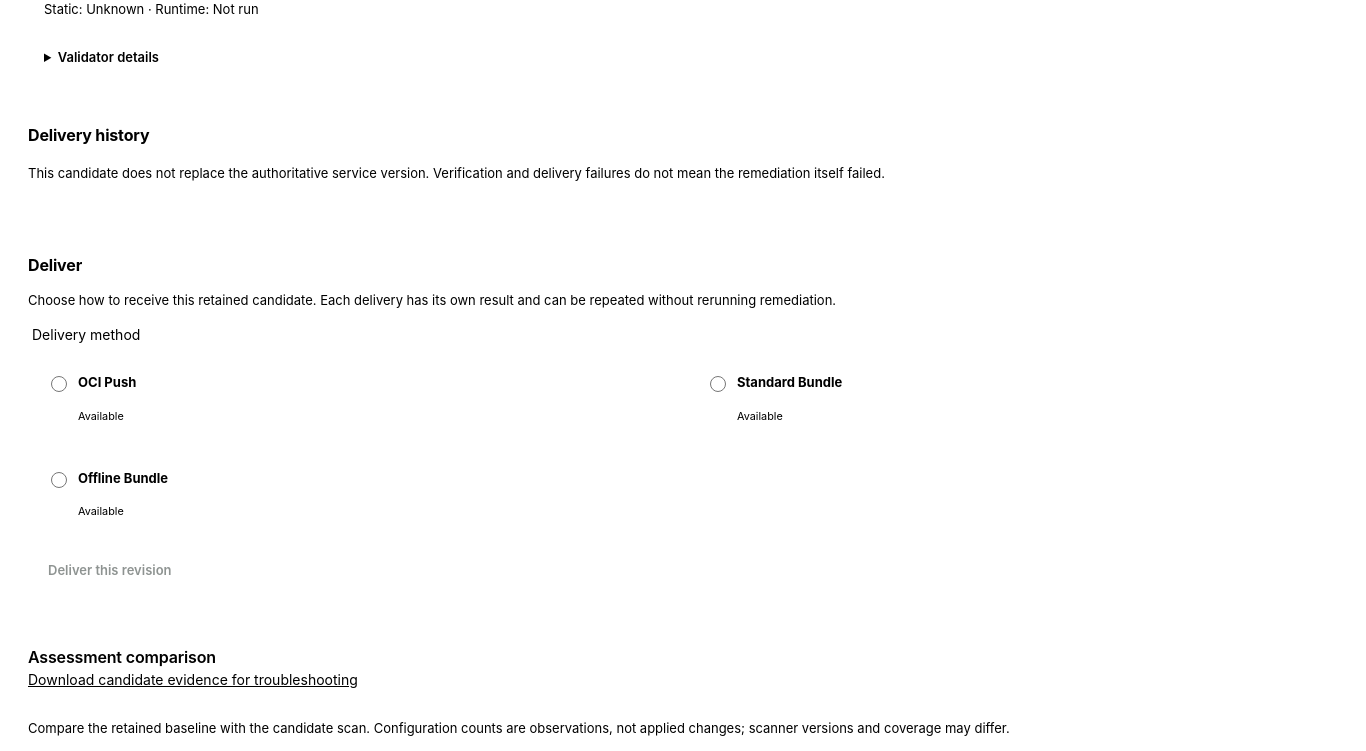
it: requires explicit documentation audience authorization and submits its server field
The image size is (1366, 751).
(page scrolled)
Click the radio button labelled "OCI Push Available": (59, 384) [51, 376, 67, 392]
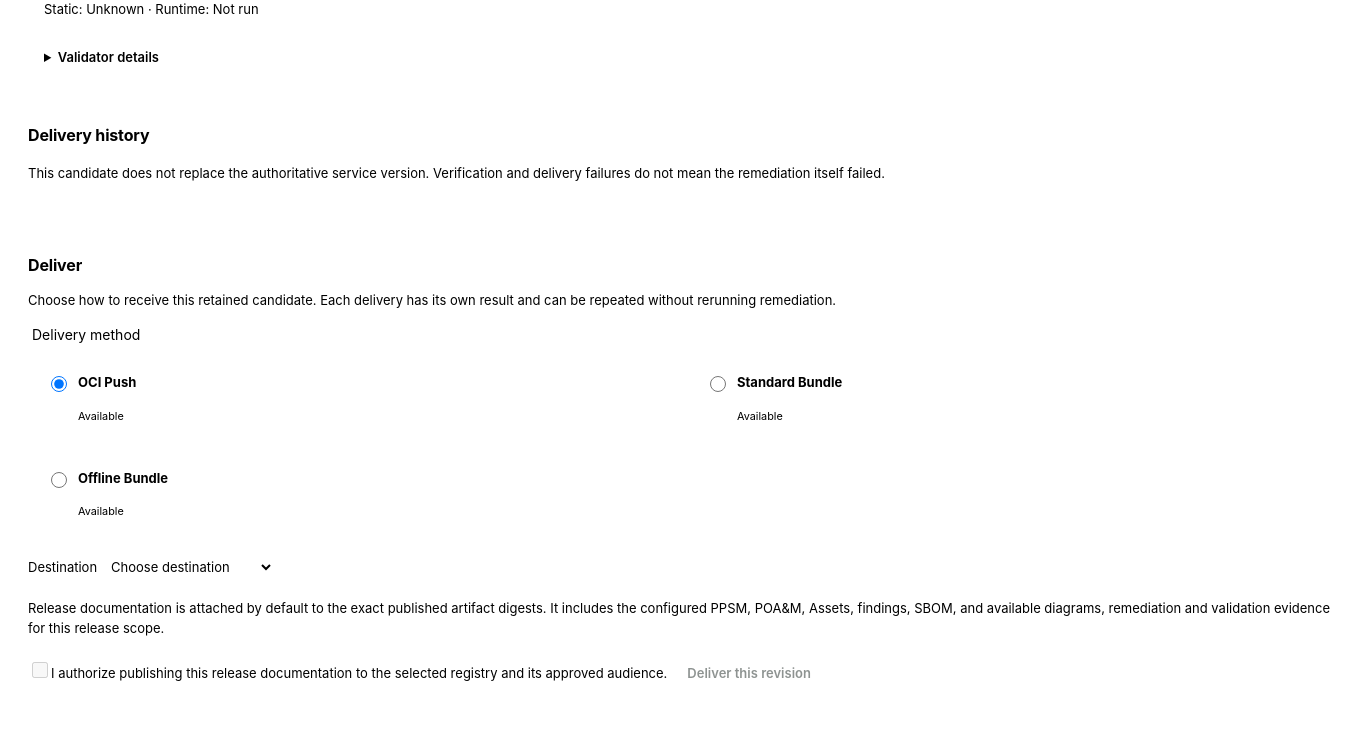
Select "Approved registry" in the dropdown labelled "Destination": (186, 566) [97, 548, 274, 584]
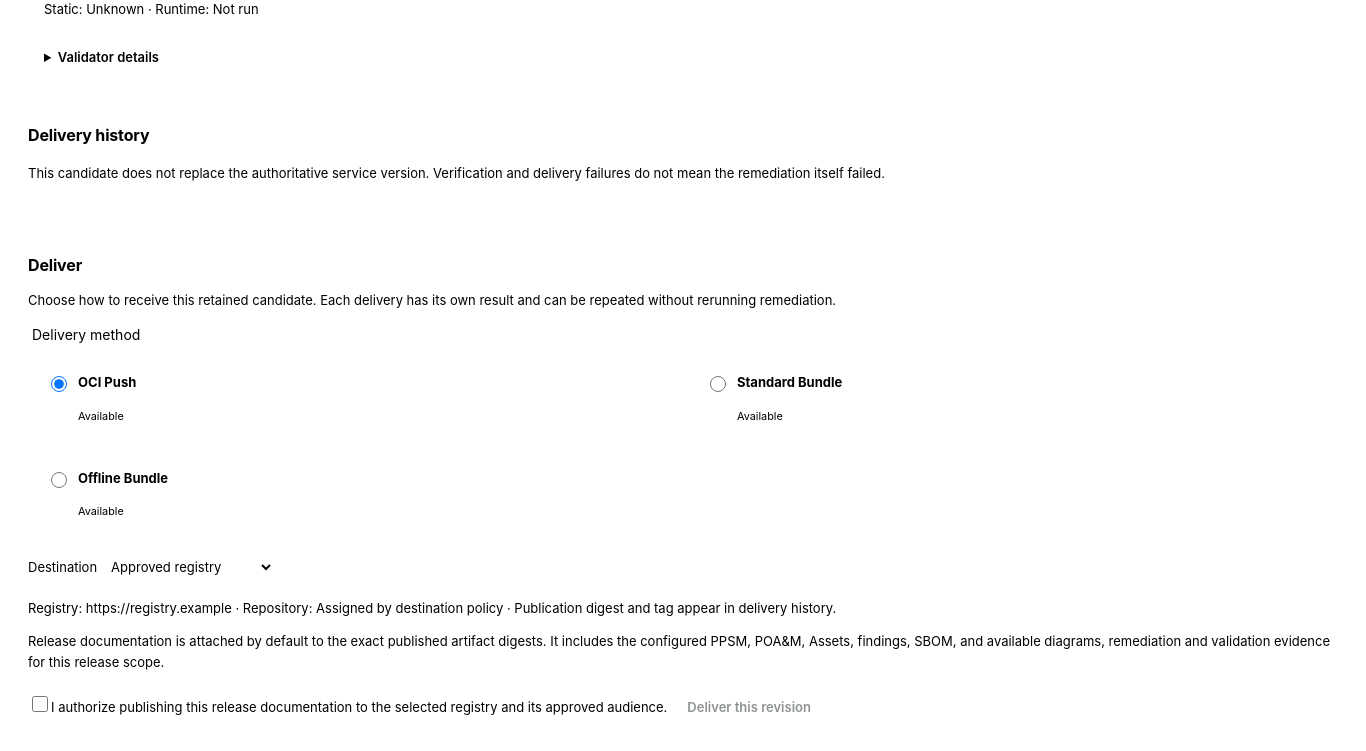
Check: the button "Deliver this revision" is disabled, box [671, 690, 827, 726]
Check: the checkbox named "I authorize publishing this release documentation to the selected registry and its approved audience." is not checked, box [32, 696, 48, 712]
Submit the form named "Deliver this revision", box [28, 324, 1338, 730]
Check: the text "Release documentation is attached by default" shows "PPSM, POA&M, Assets, findings, SBOM", box [28, 633, 1330, 670]
Click the checkbox named "I authorize publishing this release documentation to the selected registry and its approved audience.": (40, 704) [32, 696, 48, 712]
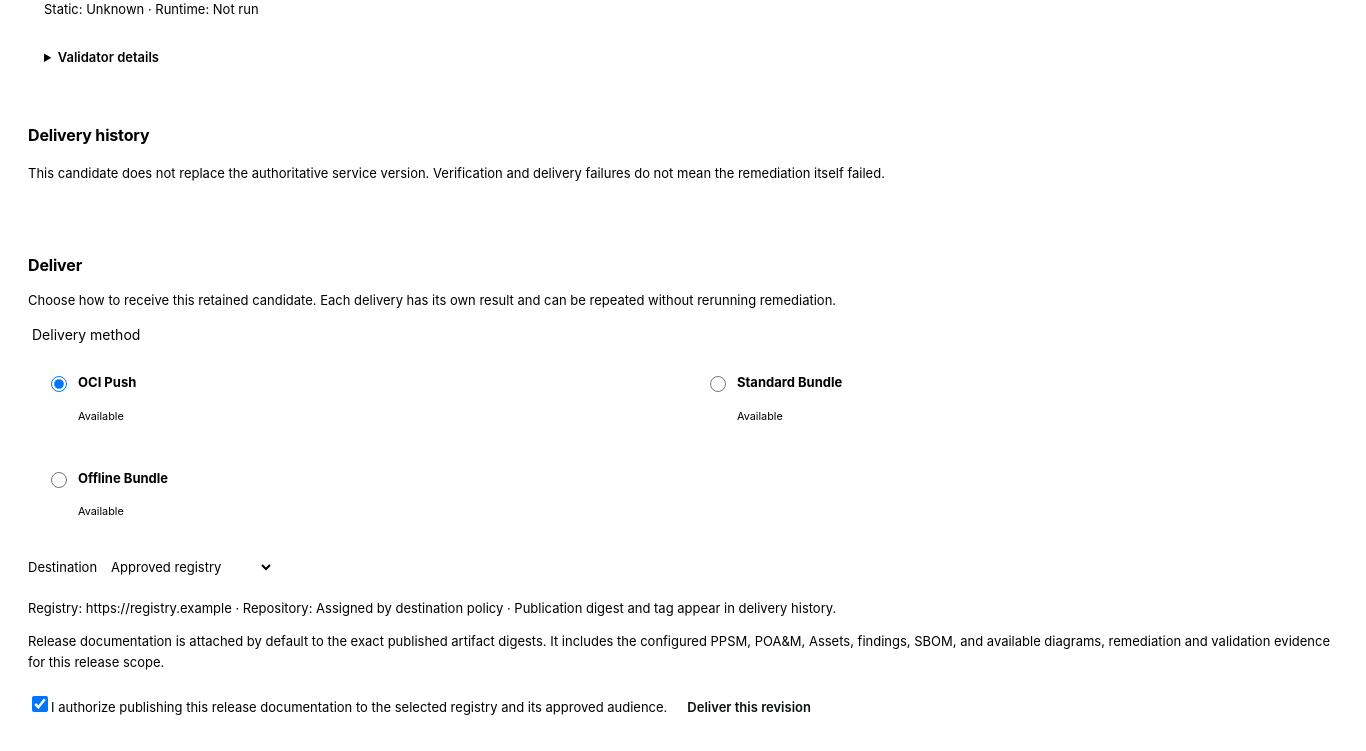
Check: the button "Deliver this revision" is enabled, box [671, 690, 827, 726]
Submit the form named "Deliver this revision", box [28, 324, 1338, 730]
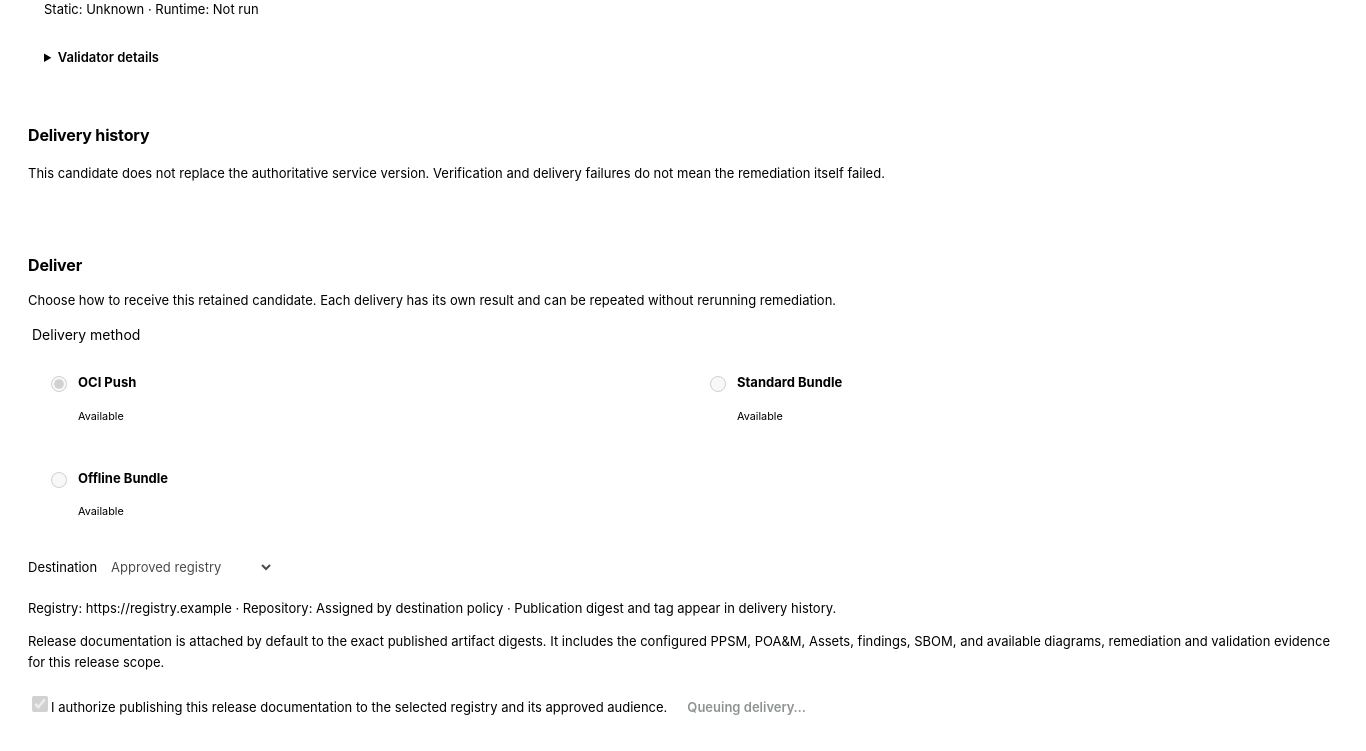
Check: the button "Queuing delivery…" is disabled, box [671, 690, 822, 726]
